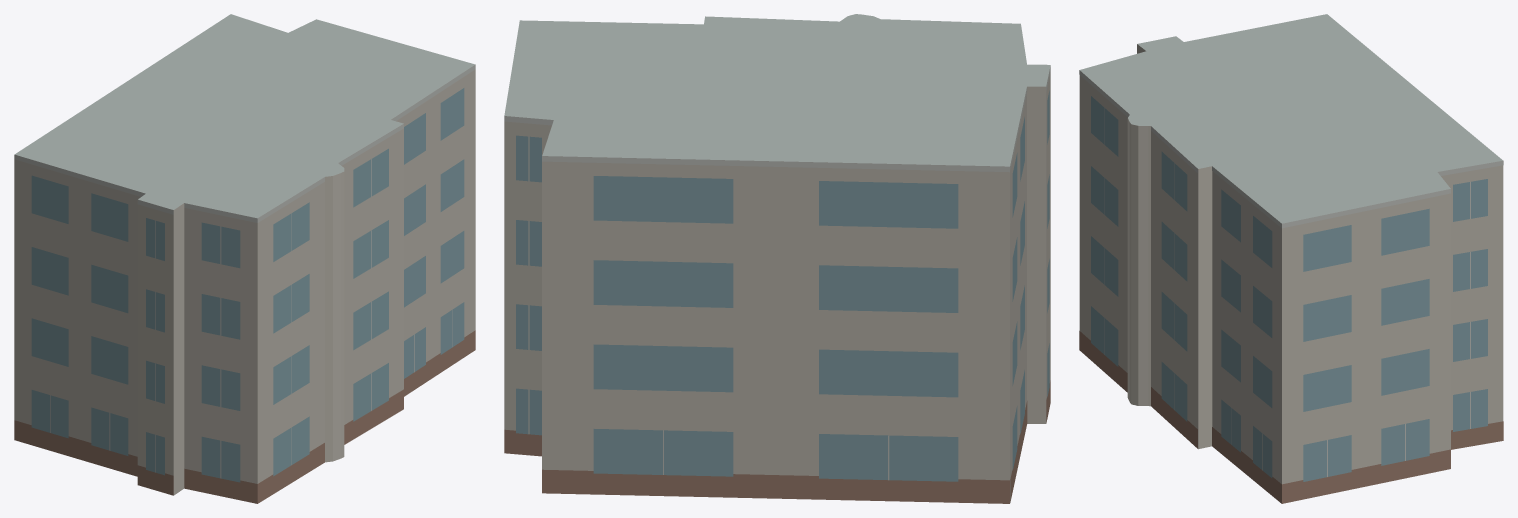
Rendered from survey-upis-32977133.glb.
3 renders of one model, left to right at view 1: azimuth 30°, elevation 25°; view 2: azimuth 150°, elevation 25°; view 3: azimuth 270°, elevation 25°, orthographic. The views are drawn at different scales.
Parts seen in each view (by area): view 1: survey-upis-32977133.tmp; view 2: survey-upis-32977133.tmp; view 3: survey-upis-32977133.tmp.
Part boxes in pixels (box(x1,y1,x2,y2)): survey-upis-32977133.tmp: box(14, 14, 475, 503); survey-upis-32977133.tmp: box(504, 14, 1050, 503); survey-upis-32977133.tmp: box(1079, 14, 1503, 503).
Size of the model in its own units: 23.61 by 14.7 by 20.17.
